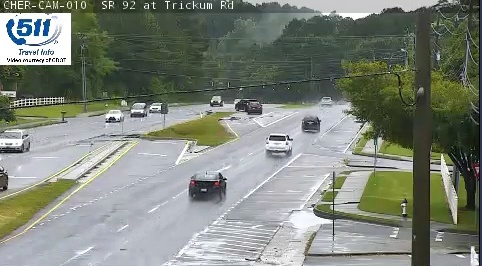car: (189, 172, 226, 198), (266, 133, 292, 152), (301, 115, 320, 132)
